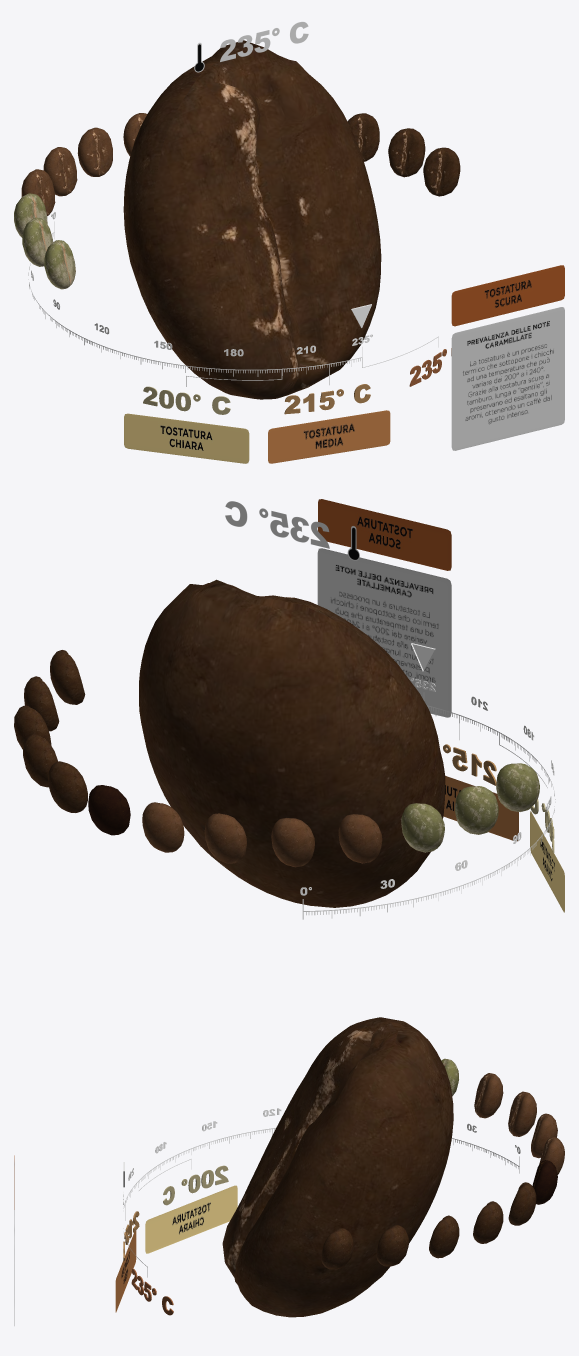
The picture shows the model from 3 angles, top to bottom: view 1: azimuth 30°, elevation 25°; view 2: azimuth 150°, elevation 25°; view 3: azimuth 270°, elevation 25°; orthographic projection. The views are drawn at different scales.
Visible parts, largest first — view 1: chicco_raw_low, CartelloDettaglio_04, CartelloChiaro_02, CartelloMedio_01, CartelloScuro_03, chicco_12.001, chicco_13.001, chicco_02.001, chicco_07.001, chicco_03.001, Termometro.001, RighelloPoly (+6 smaller); view 2: chicco_raw_low, CartelloDettaglio_04, CartelloScuro_03, chicco_07.001, chicco_06.001, chicco_04.001, chicco_05.001, chicco_03.001, chicco_08.001, chicco_02.001, chicco_01.001, Termometro.001 (+9 smaller); view 3: chicco_raw_low, CartelloChiaro_02, chicco_13.001, chicco_12.001, chicco_04.001, chicco_03.001, chicco_10.001, chicco_11.001, chicco_09.001, chicco_08.001, CartelloMedio_01, chicco_02.001 (+4 smaller).
Part boxes in pixels (x1,y1,x2,y2): chicco_raw_low: (123, 40, 381, 399); CartelloDettaglio_04: (451, 307, 564, 450); CartelloChiaro_02: (124, 413, 249, 463); CartelloMedio_01: (268, 410, 390, 463); CartelloScuro_03: (451, 265, 564, 326); chicco_12.001: (388, 128, 425, 177); chicco_13.001: (423, 147, 460, 196); chicco_02.001: (77, 127, 112, 176); chicco_07.001: (44, 240, 75, 289); chicco_03.001: (43, 147, 77, 196); Termometro.001: (194, 22, 308, 72); RighelloPoly: (28, 221, 362, 376); chicco_raw_low: (139, 579, 445, 907); CartelloDettaglio_04: (317, 548, 451, 717); CartelloScuro_03: (318, 499, 451, 570); chicco_07.001: (496, 763, 539, 811); chicco_06.001: (455, 786, 498, 834); chicco_04.001: (338, 814, 382, 863); chicco_05.001: (401, 803, 444, 852); chicco_03.001: (271, 818, 314, 867); chicco_08.001: (88, 785, 130, 835); chicco_02.001: (204, 813, 246, 863); chicco_01.001: (142, 802, 184, 852); Termometro.001: (225, 501, 359, 560); chicco_raw_low: (222, 1017, 453, 1317); CartelloChiaro_02: (145, 1185, 237, 1253); chicco_13.001: (321, 1228, 353, 1269); chicco_12.001: (376, 1225, 408, 1266); chicco_04.001: (474, 1073, 503, 1118); chicco_03.001: (508, 1091, 536, 1136); chicco_10.001: (473, 1201, 503, 1243); chicco_11.001: (429, 1215, 459, 1258); chicco_09.001: (508, 1182, 536, 1225); chicco_08.001: (532, 1160, 557, 1204); CartelloMedio_01: (115, 1231, 136, 1312); chicco_02.001: (531, 1113, 557, 1158).
Size of the model in its own units: 30.19 by 24.17 by 36.24.
24 materials, 19 textured.
